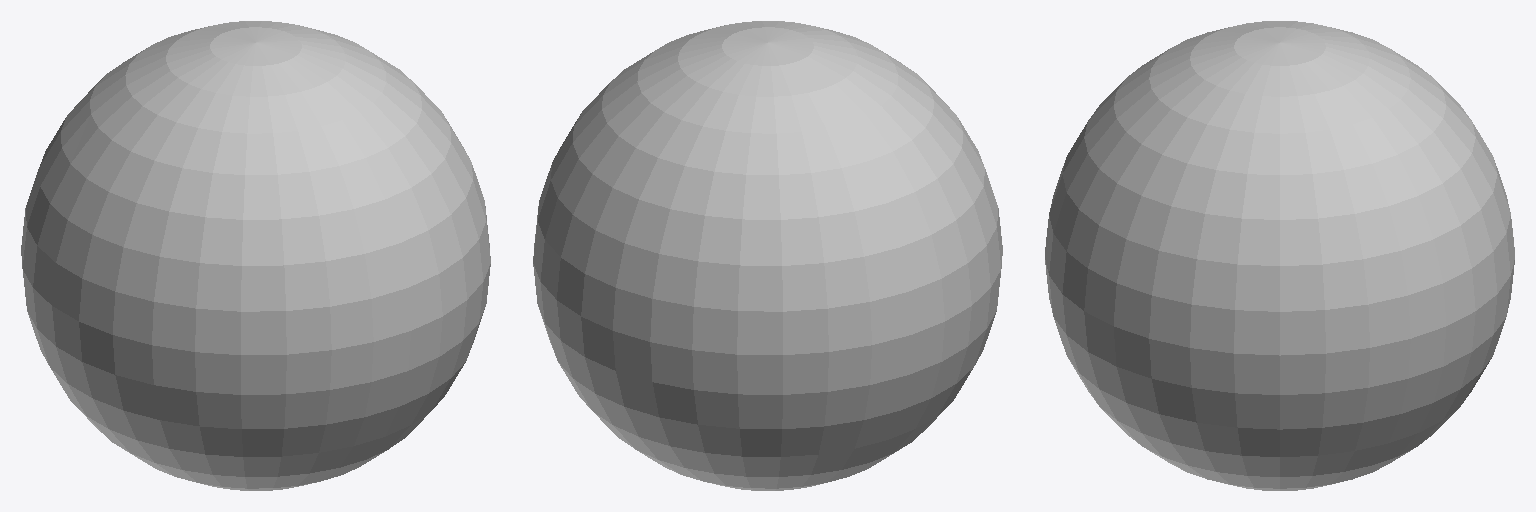
The model's file is Football.obj.
The picture shows the model from 3 angles: view 1: azimuth 30°, elevation 25°; view 2: azimuth 150°, elevation 25°; view 3: azimuth 270°, elevation 25°; orthographic projection.
Visible parts, largest first — view 1: Football_LowPoly; view 2: Football_LowPoly; view 3: Football_LowPoly.
Part boxes in pixels (x1,y1,x2,y2): Football_LowPoly: (21,21,490,490); Football_LowPoly: (533,21,1002,490); Football_LowPoly: (1045,21,1514,490).
Bounding box in the file's own units: 0.22 × 0.22 × 0.22.